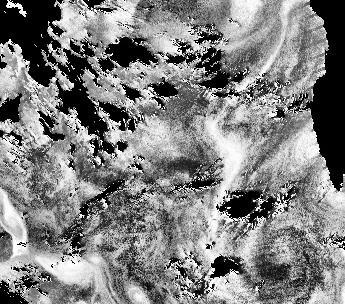CE: (249, 226, 316, 284)
